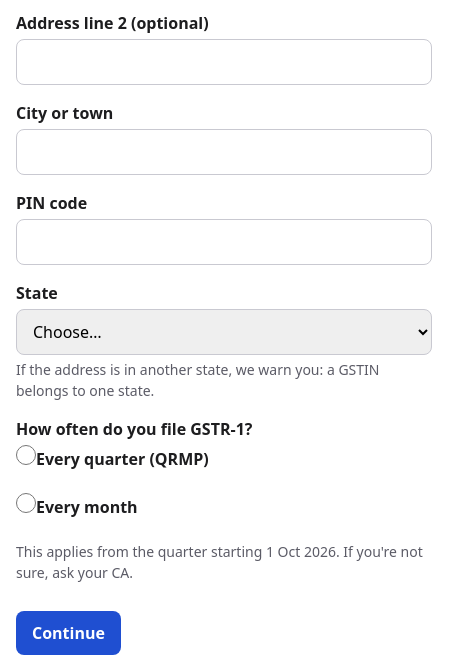
Test: saving the business › checks the required answers before sending anything
(page scrolled)
Click the button "Continue": (68, 633) [16, 611, 121, 655]
(page scrolled)
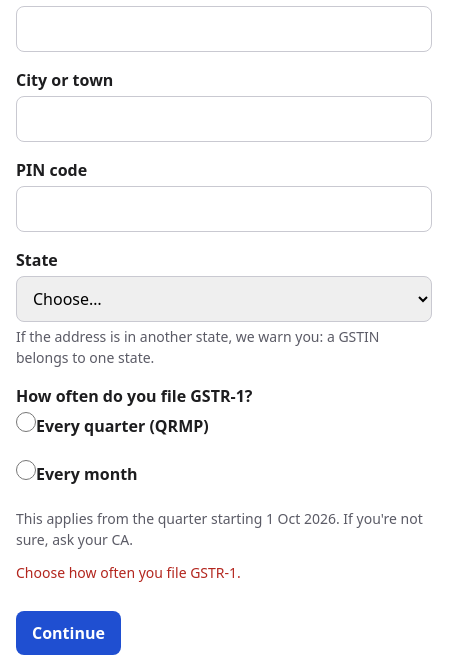
Expected: the text "Choose how often you file GSTR-1." is shown, [16, 563, 241, 582]
